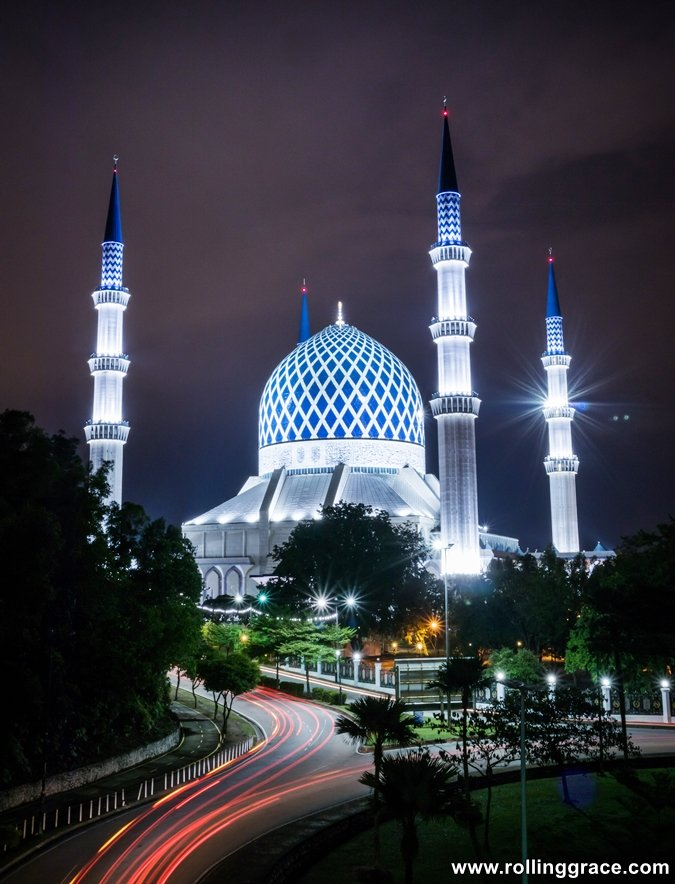Mosque: (44, 117, 591, 620)
